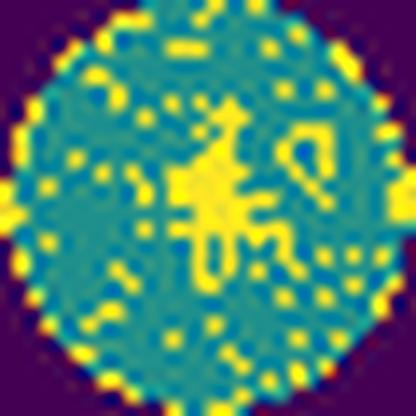Center: (166, 96, 290, 293)
